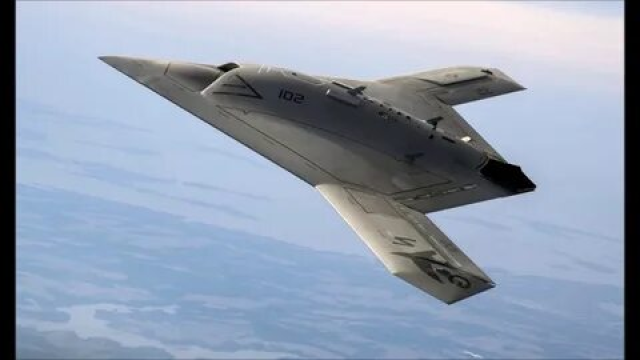military drone: (96, 56, 535, 304)
